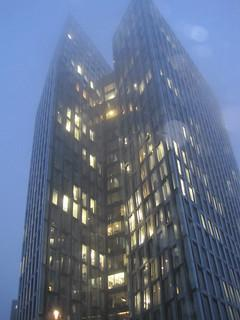building: (14, 1, 240, 320)
